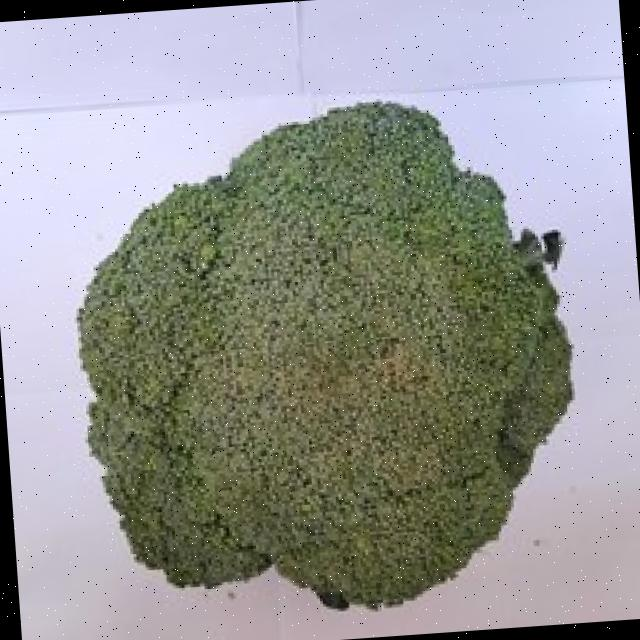Broccoli: (78, 103, 571, 607), (78, 103, 571, 606)
